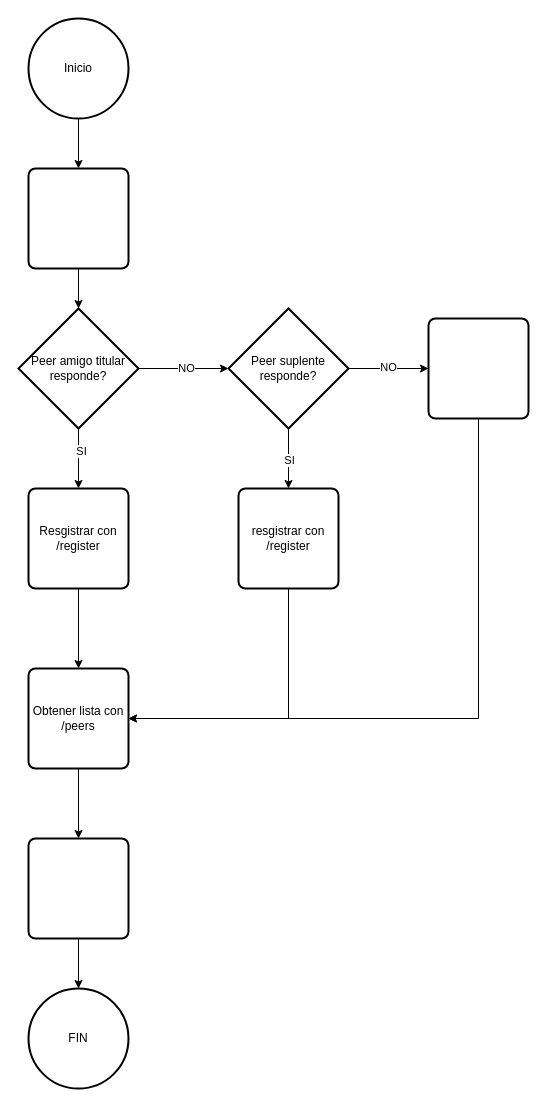
Image size: 546x1106. Some labels were removed from this diagram. Each missing label, with the box of its shape:
Iniciar aislado: (427, 317, 529, 419)
Leer archivo de comunicacion: (27, 167, 129, 269)
peer listo para consultas: (27, 837, 129, 939)
